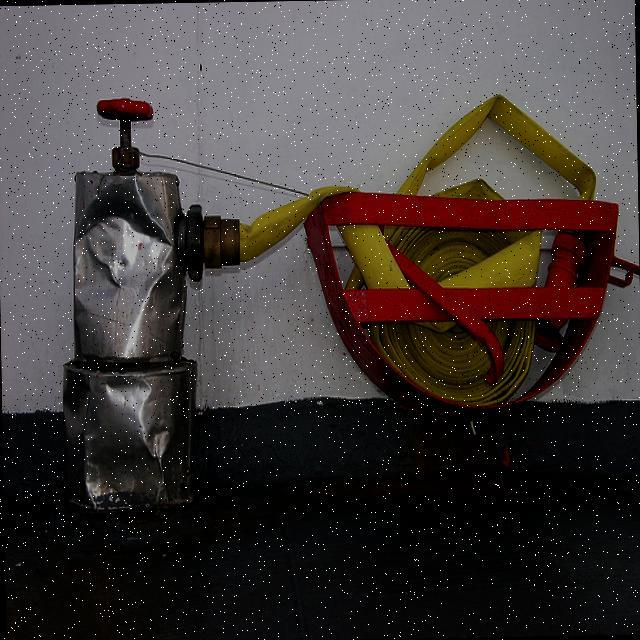fire_hydrant: (57, 96, 212, 515)
